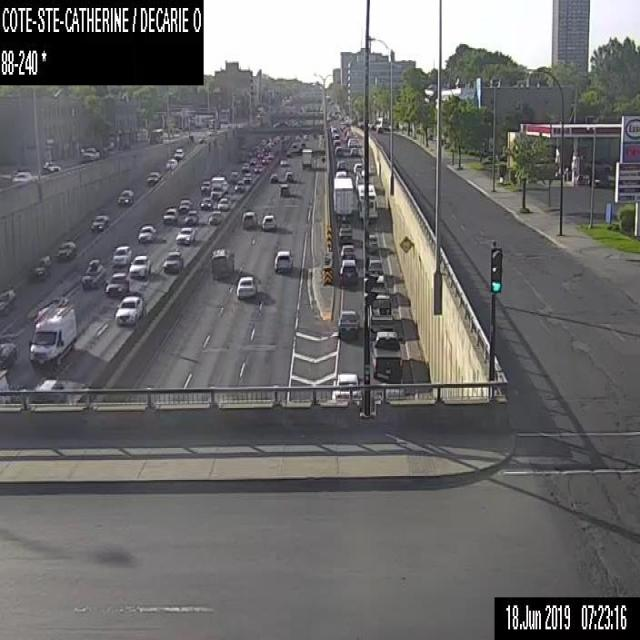bus: (357, 183, 378, 219), (376, 117, 388, 128)
vehicle: (28, 298, 77, 367), (371, 330, 402, 378), (368, 275, 392, 323), (331, 372, 363, 408), (333, 176, 352, 224), (114, 296, 143, 325), (80, 258, 106, 290), (210, 247, 233, 280), (337, 308, 359, 338), (105, 272, 129, 297), (339, 258, 357, 285), (129, 255, 150, 278), (31, 254, 51, 278), (236, 276, 256, 300), (0, 285, 15, 316), (273, 249, 292, 273), (0, 341, 15, 371), (162, 250, 182, 272), (34, 377, 64, 391), (112, 244, 131, 266), (137, 223, 156, 242), (355, 169, 372, 190), (210, 175, 225, 198), (56, 240, 76, 257), (584, 160, 612, 172), (176, 226, 194, 244), (90, 214, 108, 231), (81, 146, 100, 162), (116, 188, 134, 203), (11, 169, 31, 182), (340, 244, 355, 261), (242, 210, 256, 228), (338, 226, 352, 244), (261, 214, 276, 230), (163, 208, 177, 224), (184, 209, 198, 225), (369, 259, 383, 275), (301, 148, 312, 168), (43, 160, 61, 172), (178, 198, 192, 212), (208, 210, 222, 223), (368, 233, 377, 251), (146, 170, 159, 182), (217, 197, 229, 210), (200, 196, 212, 209), (279, 183, 290, 196), (200, 180, 210, 193), (165, 158, 177, 168), (173, 147, 183, 158), (235, 180, 244, 192), (230, 170, 240, 180), (269, 172, 278, 182), (241, 162, 250, 171), (349, 146, 357, 156), (353, 162, 361, 172), (285, 170, 293, 180), (347, 138, 356, 146), (334, 146, 342, 155), (336, 159, 344, 168), (334, 170, 346, 176), (242, 172, 250, 181), (254, 164, 262, 172), (261, 155, 268, 163), (249, 156, 256, 164), (279, 159, 288, 165), (333, 139, 340, 146), (331, 126, 337, 132), (304, 133, 308, 140), (333, 134, 339, 138), (286, 150, 290, 156), (292, 142, 296, 147), (300, 141, 304, 145)
